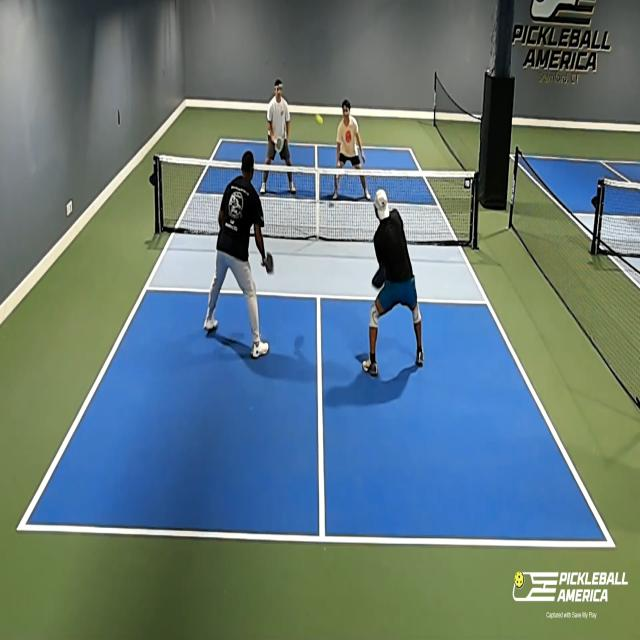Pickleball: (315, 113, 325, 129)
